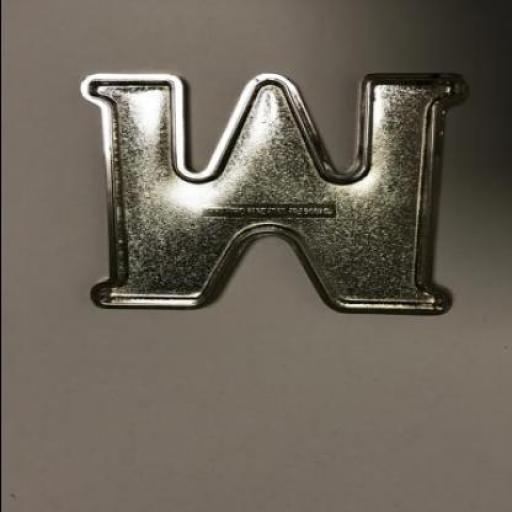metal: (77, 72, 468, 316)
